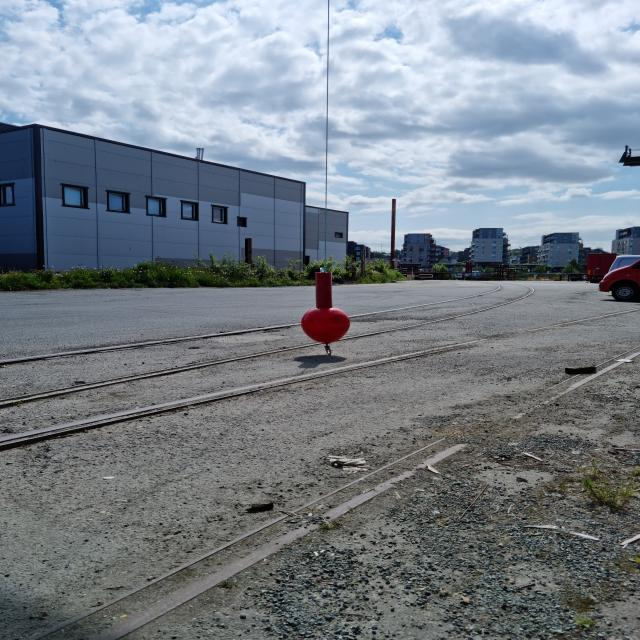red: (301, 270, 351, 343)
